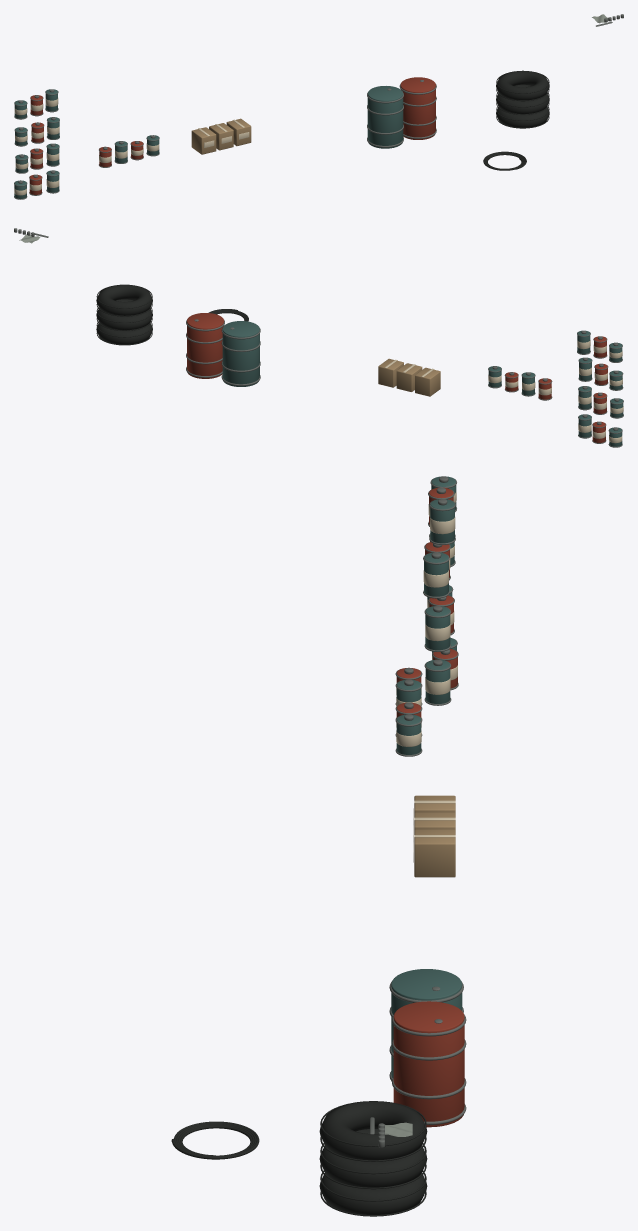
The model's file is workshop-details.glb.
3 views of the same model, one above another, from view 1: azimuth 30°, elevation 25°; view 2: azimuth 150°, elevation 25°; view 3: azimuth 270°, elevation 25° (orthographic). The views are drawn at different scales.
Parts seen in each view (by area): view 1: Workshop_Service_Details; view 2: Workshop_Service_Details; view 3: Workshop_Service_Details.
Part boxes in pixels (x1,y1,x2,y2): Workshop_Service_Details: [14, 14, 623, 199]; Workshop_Service_Details: [14, 228, 623, 447]; Workshop_Service_Details: [171, 476, 466, 1216].
Size of the model in its own units: 11.57 by 2.4 by 2.49.
